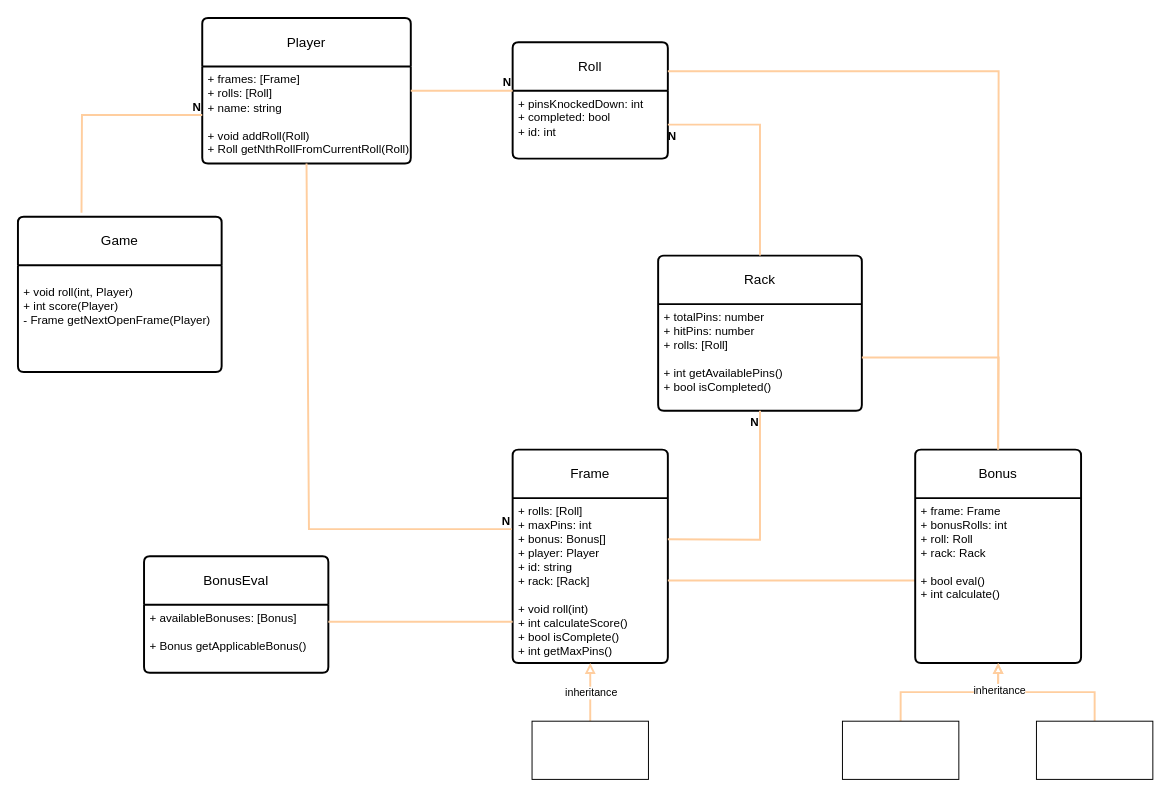
The diagram is 1170 pixels wide and 796 high, and some of its shapes have lost their labels. Here are the shapes that lost their labels. From the top down, the centre of each, then its label:
At (x=589, y=749): "SpecialFrame".
At (x=900, y=749): "SpareBonus".
At (x=1094, y=749): "StrikeBonus".
